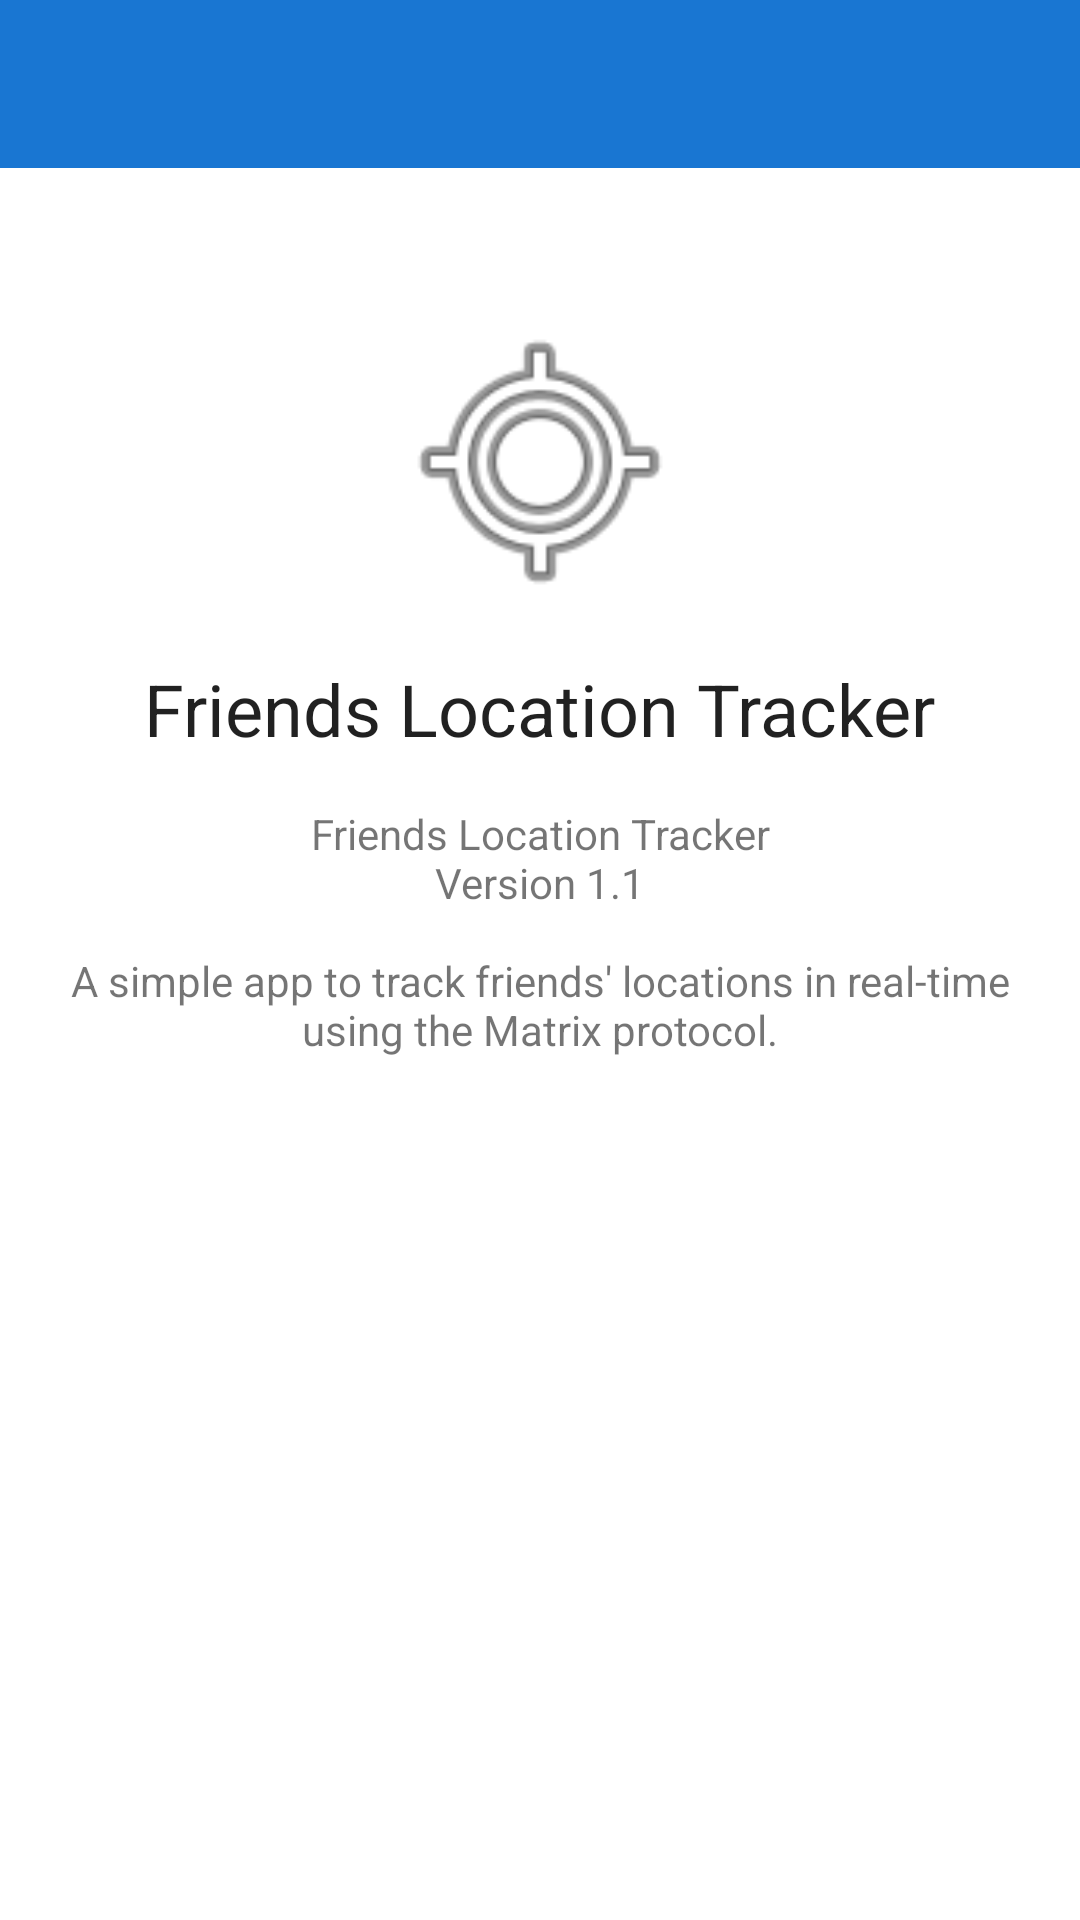

Icons on this 1080×1920 Android screen, each with its box as (x1, y1, x2, y2):
mylocation: (420, 342, 660, 582)
